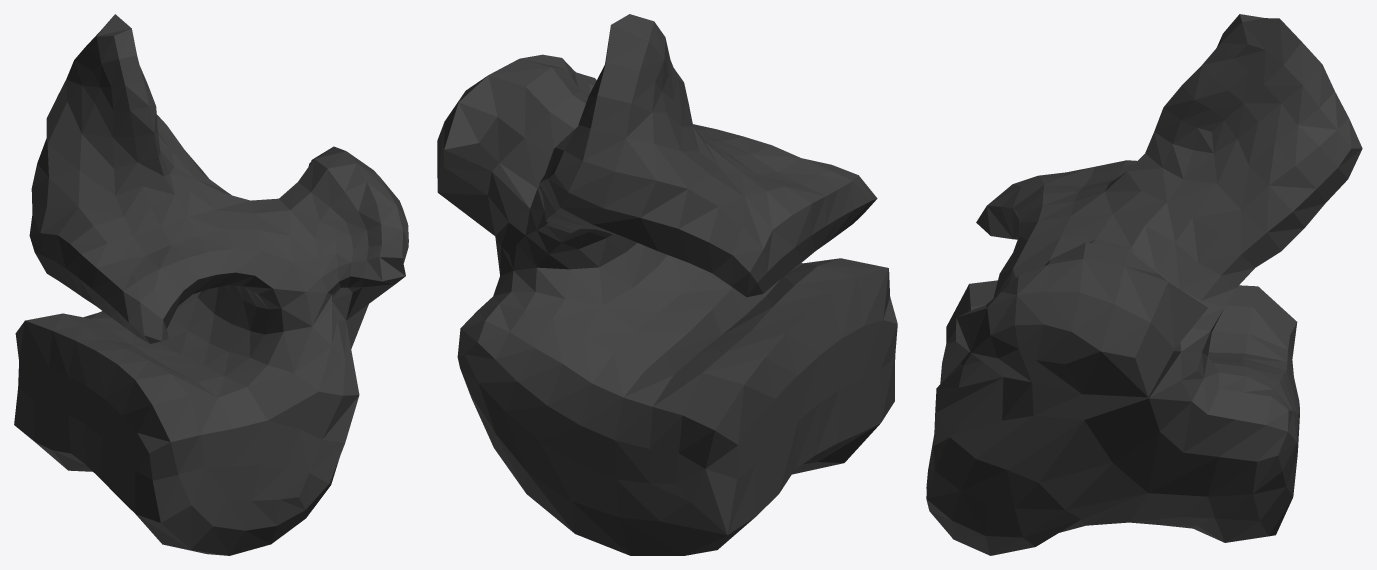
3 renders of one model, left to right at view 1: azimuth 30°, elevation 25°; view 2: azimuth 150°, elevation 25°; view 3: azimuth 270°, elevation 25°, orthographic. The views are drawn at different scales.
Visible parts, largest first — view 1: T10; view 2: T10; view 3: T10.
Part boxes in pixels (x1,y1,x2,y2): T10: (14, 14, 408, 555); T10: (437, 14, 897, 555); T10: (926, 14, 1362, 555).
Bounding box in the file's own units: 0.00711 × 0.00995 × 0.00747.
Materials: 1 (1 with a texture image).
